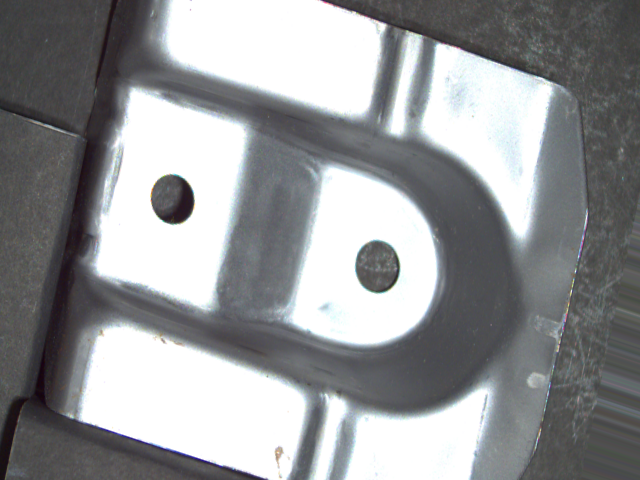defect: (349, 236, 405, 297)
